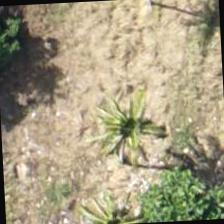Kelapa_Sawit: (78, 83, 172, 178), (105, 0, 199, 53)
